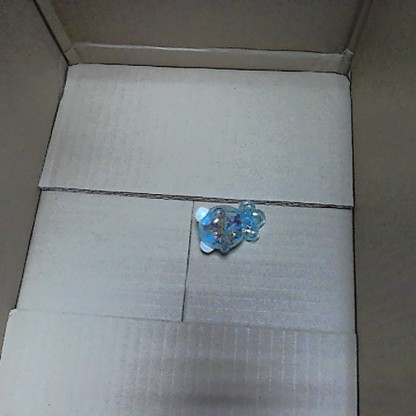bluefish: (189, 195, 267, 256)
